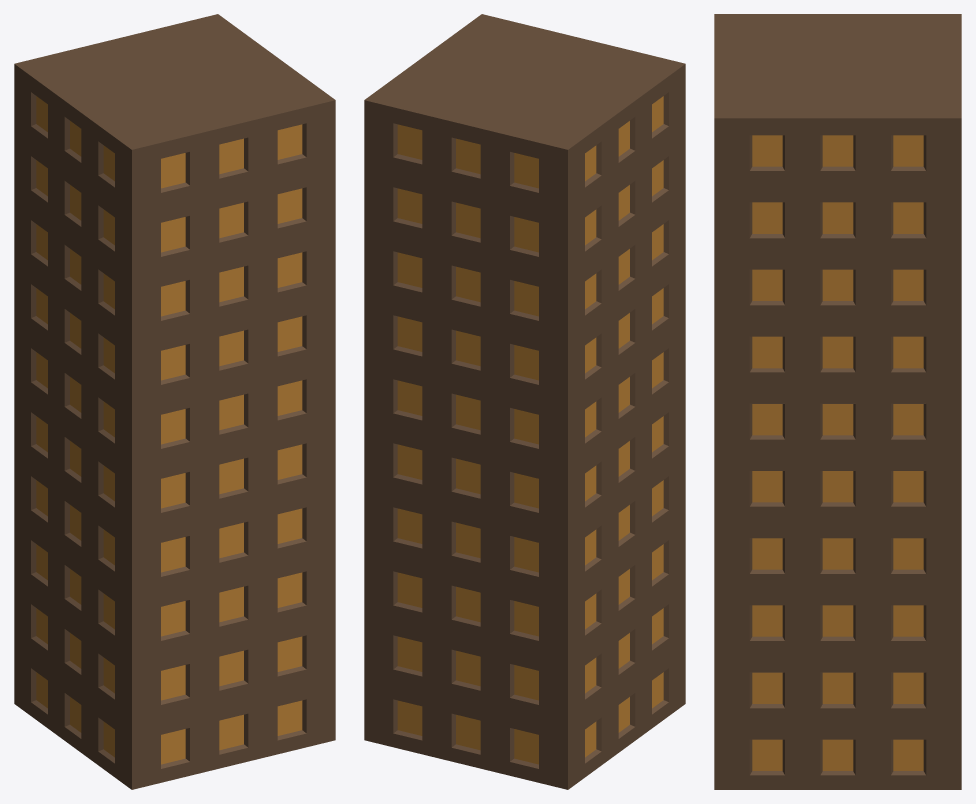
The model's file is Houses.fbx.
The picture shows the model from 3 angles, left to right: view 1: azimuth 30°, elevation 25°; view 2: azimuth 150°, elevation 25°; view 3: azimuth 270°, elevation 25°; orthographic projection. The views are drawn at different scales.
Visible parts, largest first — view 1: Building1, Building3, Building-body, Building 2; view 2: Building1, Building3, Building-body, Building 2; view 3: Building1, Building3, Building-body, Building 2.
Part boxes in pixels (x1,y1,x2,y2): Building1: [14, 192, 335, 725]; Building3: [14, 14, 335, 671]; Building-body: [14, 640, 335, 789]; Building 2: [31, 605, 306, 768]; Building1: [364, 192, 685, 725]; Building3: [364, 14, 685, 664]; Building-body: [364, 640, 685, 789]; Building 2: [393, 612, 667, 768]; Building1: [714, 252, 961, 722]; Building3: [714, 14, 961, 252]; Building-body: [714, 723, 961, 789]; Building 2: [749, 673, 925, 775].
Size of the model in its own units: 1000 by 3000 by 1000.
